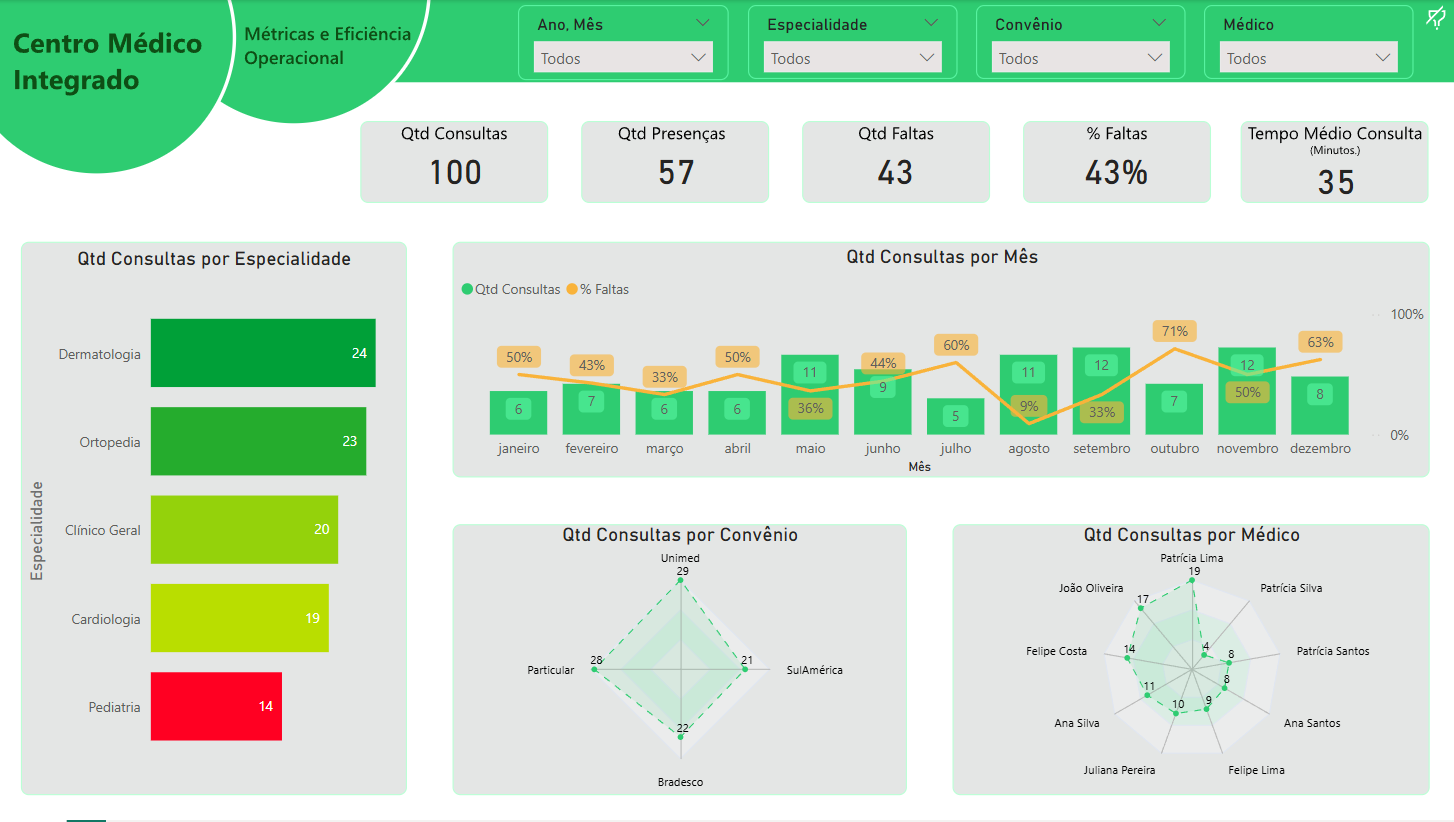

The page's visual inventory and layout, read from the dashboard file:
{"tool":"powerbi","page":{"name":"DashBoard","canvas":[1280,720],"ordinal":0},"visuals":[{"type":"slicer","fields":{"Values":["PowerBI_Portfolio_Clinica.Convênio"]},"box":[858.6,4.4,183.8,65.2],"z":0},{"type":"slicer","fields":{"Values":["PowerBI_Portfolio_Clinica.Especialidade"]},"box":[658.3,4.4,183.8,65.2],"z":1000},{"type":"slicer","fields":{"Values":["PowerBI_Portfolio_Clinica.Data_Consulta.Variation.Hierarquia de datas.Ano","PowerBI_Portfolio_Clinica.Data_Consulta.Variation.Hierarquia de datas.Mês"]},"box":[456.5,4,185.3,65.9],"z":2000},{"type":"slicer","fields":{"Values":["PowerBI_Portfolio_Clinica.Médico"]},"box":[1058.9,4.4,183.8,65.2],"z":3000},{"type":"clusteredBarChart","fields":{"Category":["PowerBI_Portfolio_Clinica.Especialidade"],"Y":["Medidas.qtd_consultas"]},"box":[20.2,216.9,339.8,471.5],"z":4000},{"type":"radarChart","title":"Qtd Consultas por Convênio","fields":{"category":["PowerBI_Portfolio_Clinica.Convênio"],"measure":["Medidas.qtd_consultas"]},"box":[401.3,459.2,396,238],"z":5000},{"type":"card","title":"Quantidade de Consultas","fields":{"Values":["Medidas.qtd_consultas"]},"box":[318.7,120.2,164.2,57.1],"z":6000},{"type":"card","title":"Quantidade de Presenças","fields":{"Values":["Medidas.qtd_comparecimentos"]},"box":[512.4,120.2,164.2,57.1],"z":7000},{"type":"card","title":"Quantidade de Faltas","fields":{"Values":["Medidas.qtd_faltas"]},"box":[706.1,120.2,164,57],"z":8000},{"type":"card","title":"Média Tempo Consulta (Min.)","fields":{"Values":["Medidas.media_tempo_por_consulta"]},"box":[1093,135,164,45],"z":9000},{"type":"card","title":"% Faltas","fields":{"Values":["Medidas.%_faltas"]},"box":[899.7,120.2,164,57],"z":10000},{"type":"radarChart","title":"Qtd Consultas por Médico","fields":{"measure":["Medidas.qtd_consultas"],"category":["PowerBI_Portfolio_Clinica.Médico"]},"box":[839.4,459.2,418,238],"z":11000},{"type":"lineStackedColumnComboChart","title":"Qtd Consultas por Mês","fields":{"Category":["PowerBI_Portfolio_Clinica.Data_Consulta.Variation.Hierarquia de datas.Mês"],"Y":["Medidas.qtd_consultas"],"Y2":["Medidas.%_faltas"]},"box":[401.3,215.1,856.1,205.5],"z":12000},{"type":"actionButton","box":[1248.6,0,31.6,30.7],"z":12001}]}

Visuals, with their boxes in screenshot pixels (x1, y1, x2, y2), scaled from the page's 1280x720 canvas onto the 1454x822 screenshot:
slicer - PowerBI_Portfolio_Clinica.Convênio: box(975, 5, 1184, 79)
slicer - PowerBI_Portfolio_Clinica.Especialidade: box(748, 5, 957, 79)
slicer - PowerBI_Portfolio_Clinica.Data_Consulta.Variation.Hierarquia de datas.Ano x PowerBI_Portfolio_Clinica.Data_Consulta.Variation.Hierarquia de datas.Mês: box(519, 5, 729, 80)
slicer - PowerBI_Portfolio_Clinica.Médico: box(1203, 5, 1412, 79)
clusteredBarChart - PowerBI_Portfolio_Clinica.Especialidade x Medidas.qtd_consultas: box(23, 248, 409, 786)
"Qtd Consultas por Convênio" radarChart: box(456, 524, 906, 796)
"Quantidade de Consultas" card: box(362, 137, 549, 202)
"Quantidade de Presenças" card: box(582, 137, 769, 202)
"Quantidade de Faltas" card: box(802, 137, 988, 202)
"Média Tempo Consulta (Min.)" card: box(1242, 154, 1428, 206)
"% Faltas" card: box(1022, 137, 1208, 202)
"Qtd Consultas por Médico" radarChart: box(954, 524, 1428, 796)
"Qtd Consultas por Mês" lineStackedColumnComboChart: box(456, 246, 1428, 480)
actionButton: box(1418, 0, 1453, 35)
